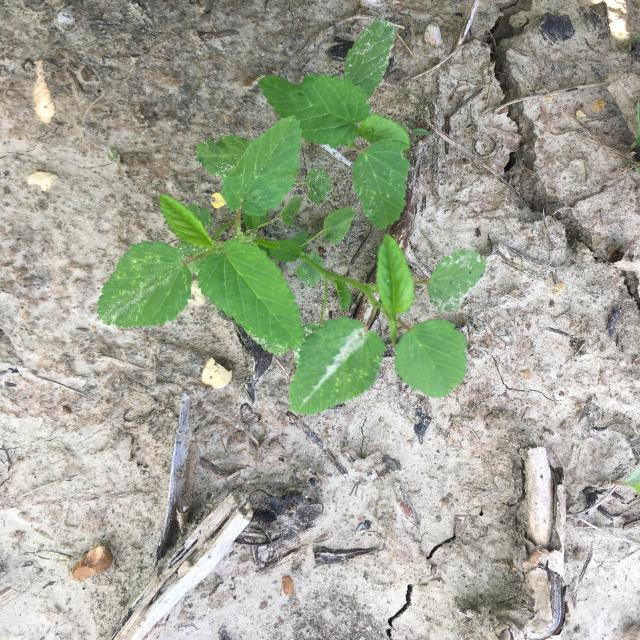PricklySida: (97, 117, 489, 416), (258, 17, 410, 230)
